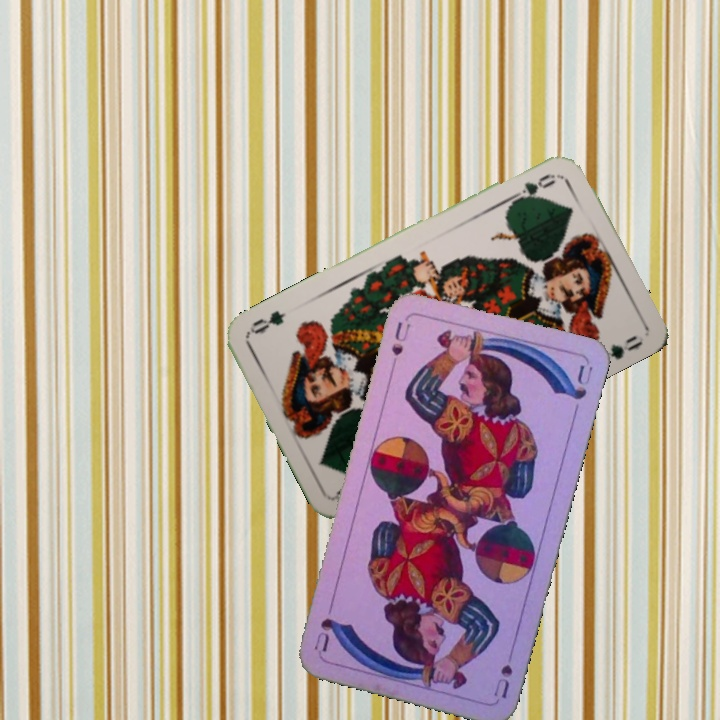GO: (504, 169, 558, 208)
SU: (489, 642, 517, 701), (387, 317, 414, 358)
